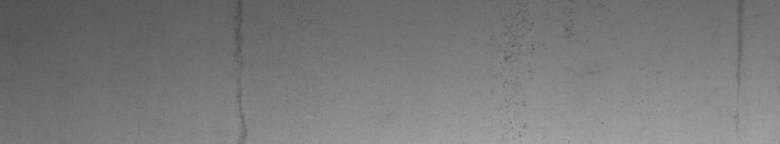ib: (500, 20, 571, 136)
